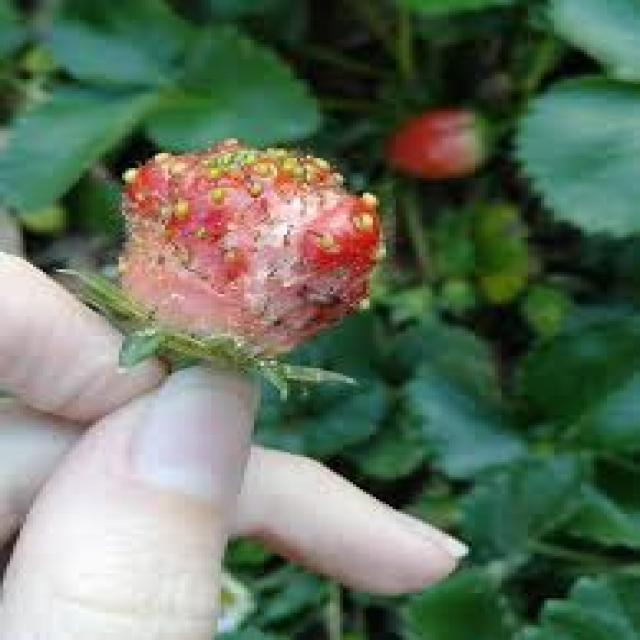Moho gris: (64, 132, 394, 392)
